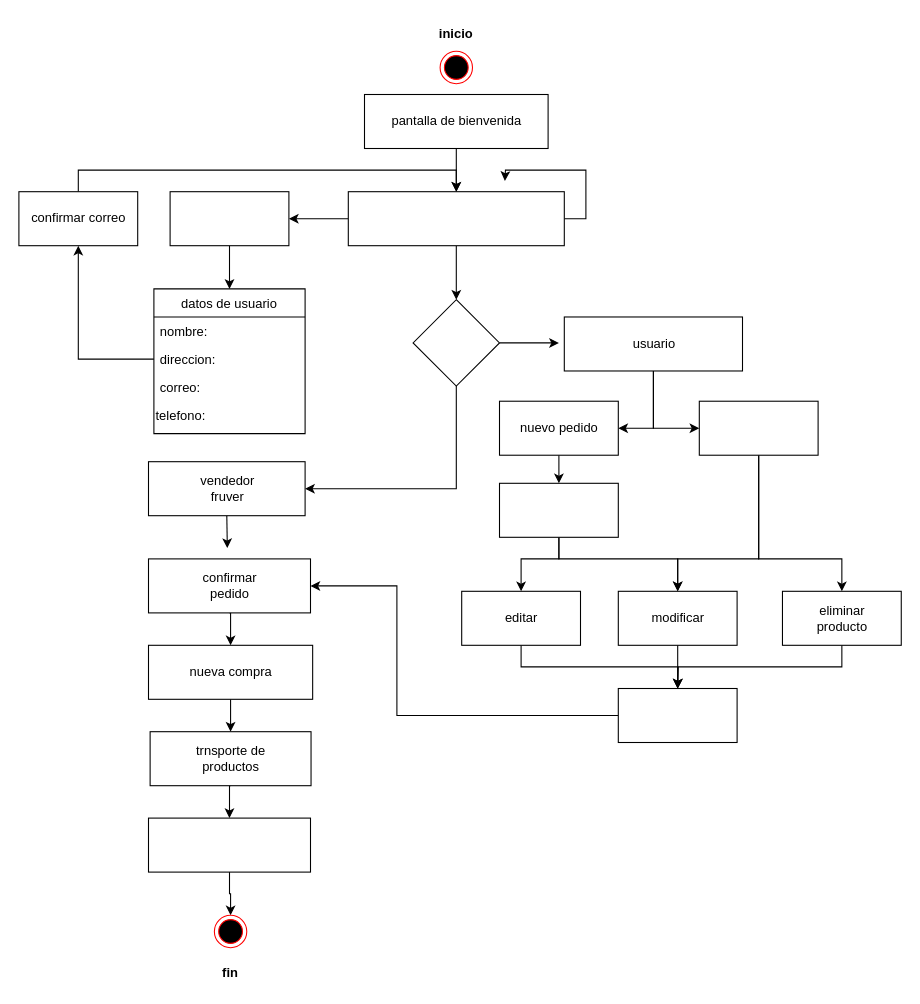
Some shapes in this 920 by 1004 pixel diagram are drawn without their labels. Here are the shapes that lost their labels. From the top down, the centre of each, then its label:
the point at 229,218: registrar usuario
the point at 455,218: iniciar sesion correo y contraseña de usuario o vendedor
the point at 758,427: continuar pedido existente
the point at 558,509: seleccionar productos
the point at 677,714: generar pedido
the point at 228,844: entrega al cliente
